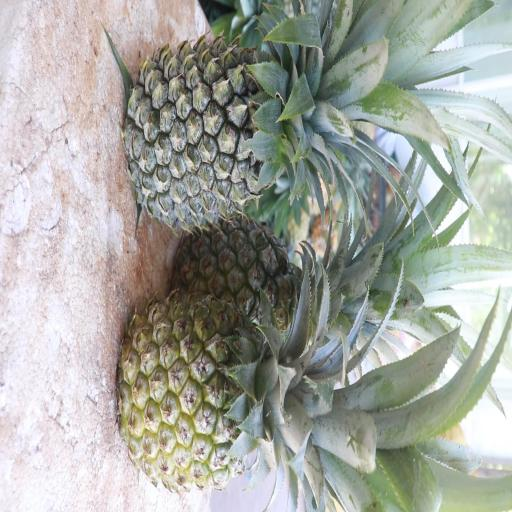------------------------------: (112, 282, 349, 503), (169, 206, 368, 362)
